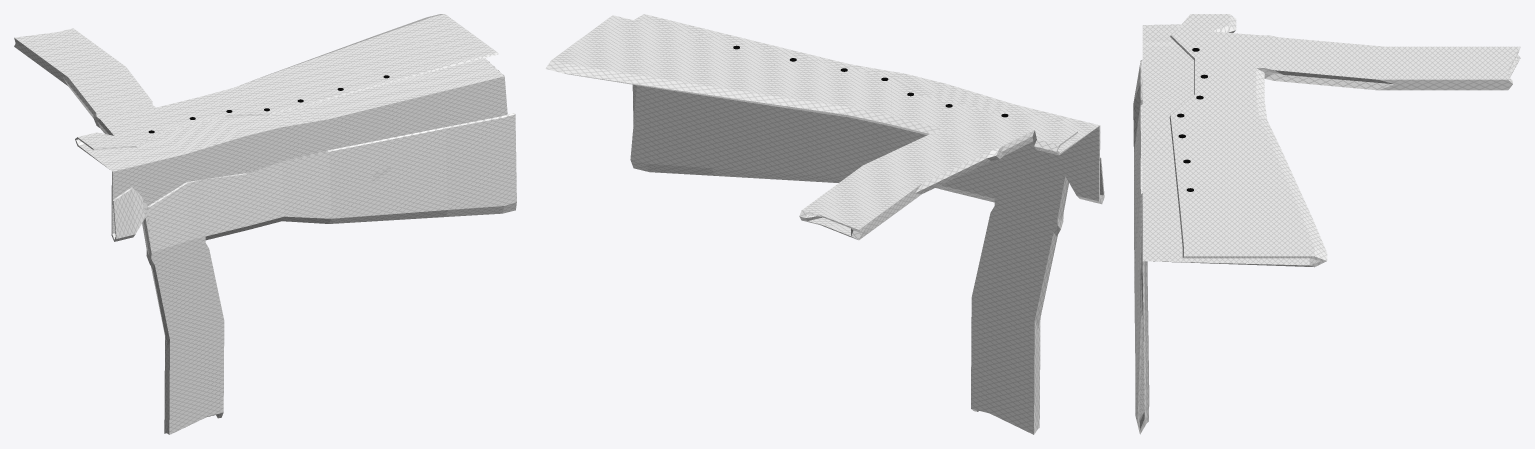
The model's file is bata_lab2.fbx.
3 renders of one model, left to right at view 1: azimuth 30°, elevation 25°; view 2: azimuth 150°, elevation 25°; view 3: azimuth 270°, elevation 25°, orthographic. The views are drawn at different scales.
Parts seen in each view (by area): view 1: labcoat2:Mesh; view 2: labcoat2:Mesh; view 3: labcoat2:Mesh.
Part boxes in pixels (left/top/right/bottom): labcoat2:Mesh: left=14, top=14, right=516, bottom=434; labcoat2:Mesh: left=545, top=14, right=1104, bottom=434; labcoat2:Mesh: left=1133, top=14, right=1520, bottom=434.
Size of the model in its own units: 5.03 by 3.43 by 3.4.
2 materials, 1 textured.
